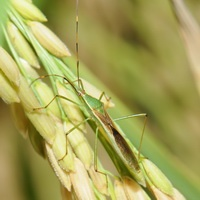insect: (32, 44, 145, 187)
